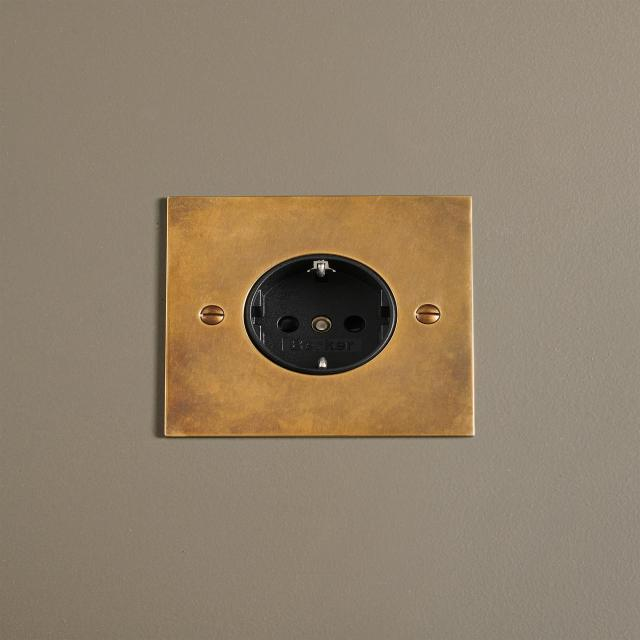typeb: (127, 164, 534, 504)
